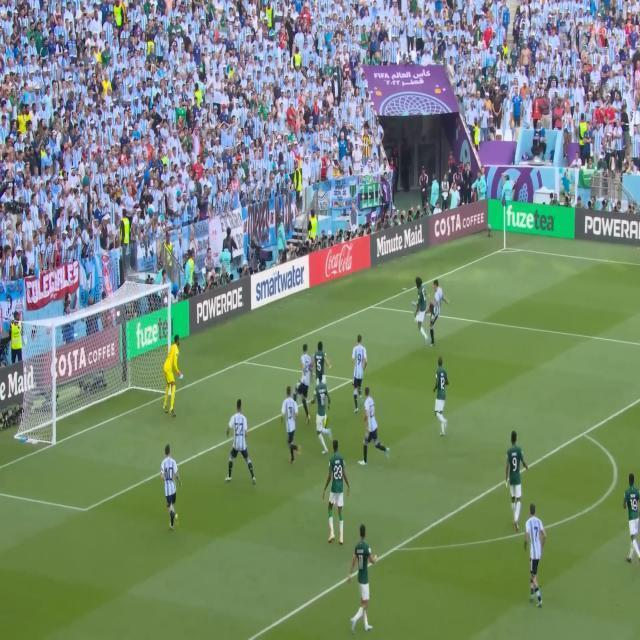player: (348, 514, 378, 635), (325, 442, 353, 553), (360, 387, 393, 475), (522, 498, 546, 617), (227, 395, 256, 492), (506, 422, 529, 535), (161, 333, 186, 424), (159, 437, 182, 531), (431, 352, 454, 444), (278, 386, 304, 461), (314, 372, 335, 460), (295, 343, 316, 424), (623, 468, 640, 566), (351, 330, 370, 417), (411, 275, 432, 349), (429, 264, 446, 351), (313, 329, 328, 386)
